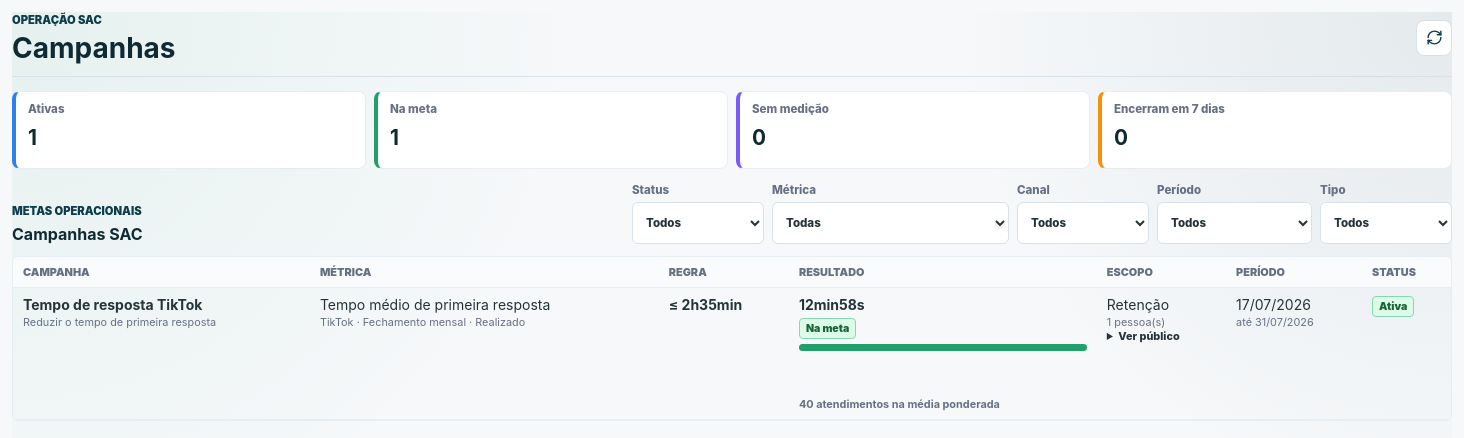
Test: SupportCampaignsView › filters campaigns without merging channel, granularity or observation type
Step 1. Select "TIKTOK" in the dropdown labelled "Canal" → (1083, 223), box [1017, 202, 1149, 244]
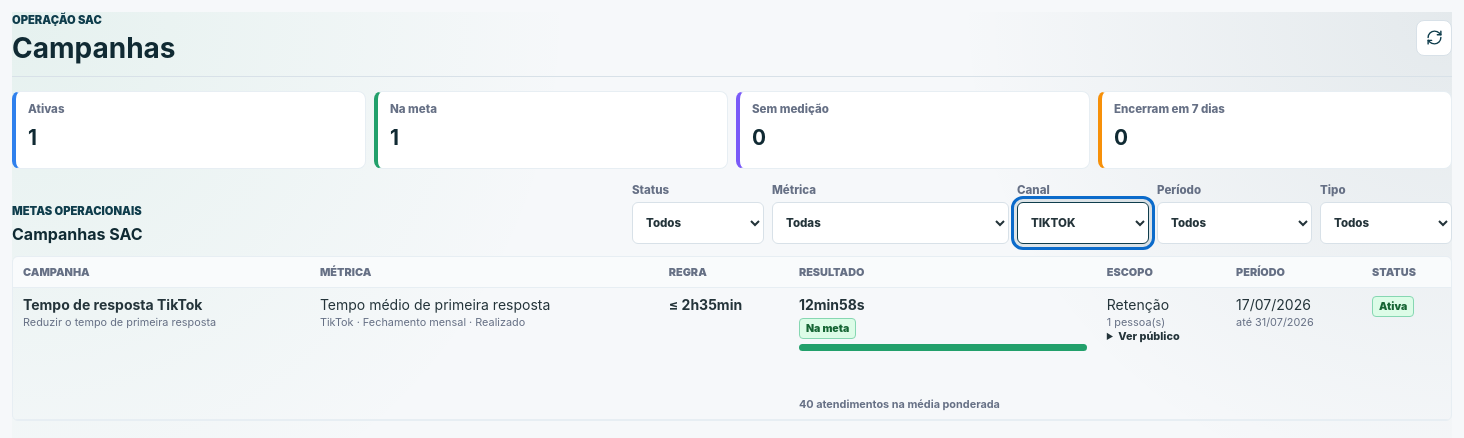
Step 2. Select "Fechamento mensal" in the dropdown labelled "Período" → (1234, 223), box [1157, 202, 1312, 244]
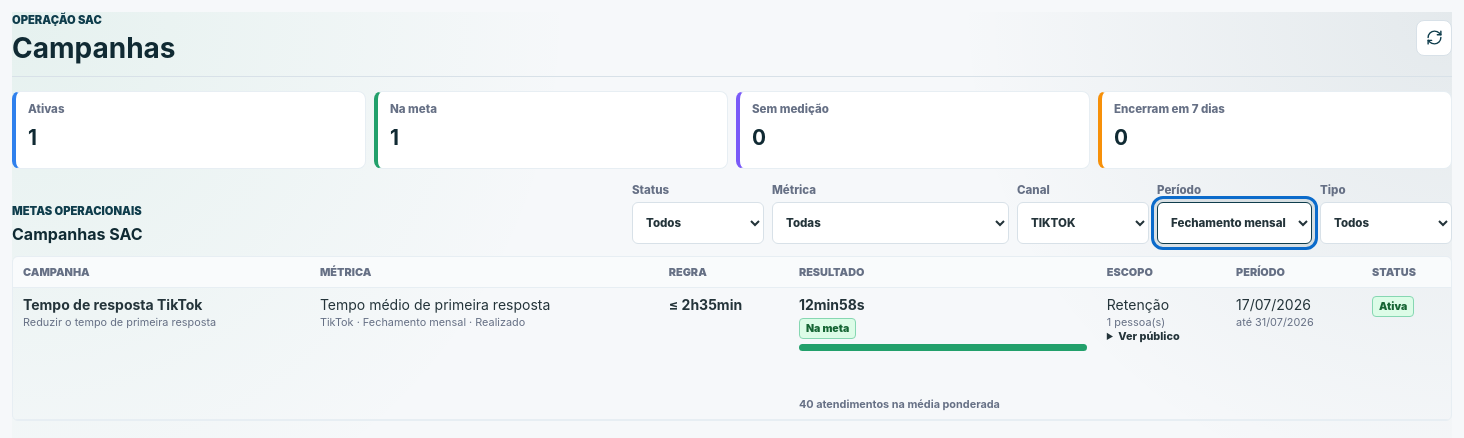
Step 3. Select "Realizado" in the dropdown labelled "Tipo" → (1386, 223), box [1320, 202, 1452, 244]
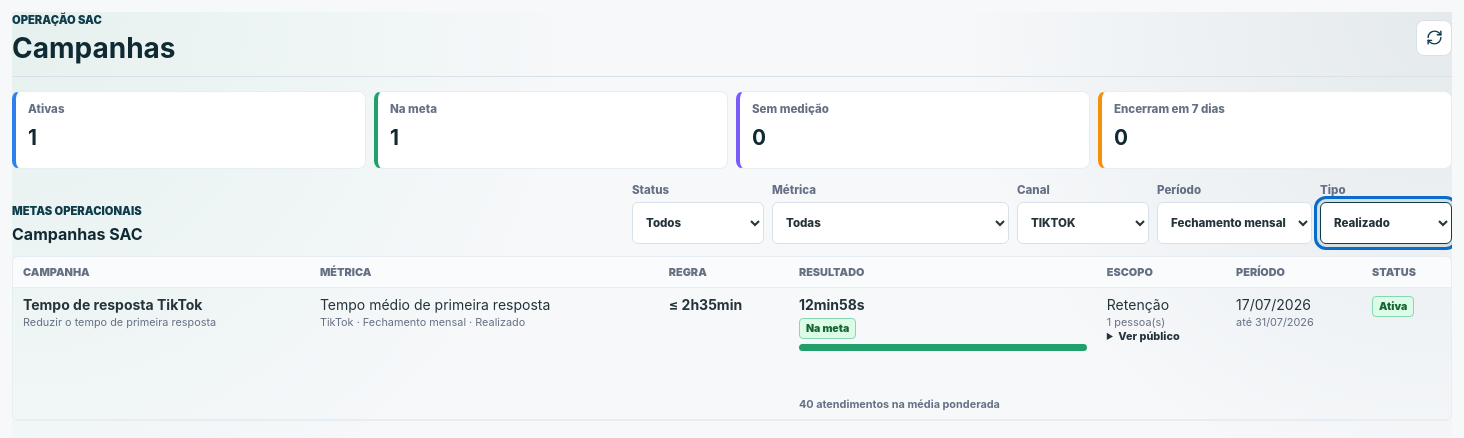
Expected: the text "Tempo de resposta TikTok" is shown, [23, 296, 202, 313]
Step 4. Select "Expectativa" in the dropdown labelled "Tipo" → (1386, 223), box [1320, 202, 1452, 244]
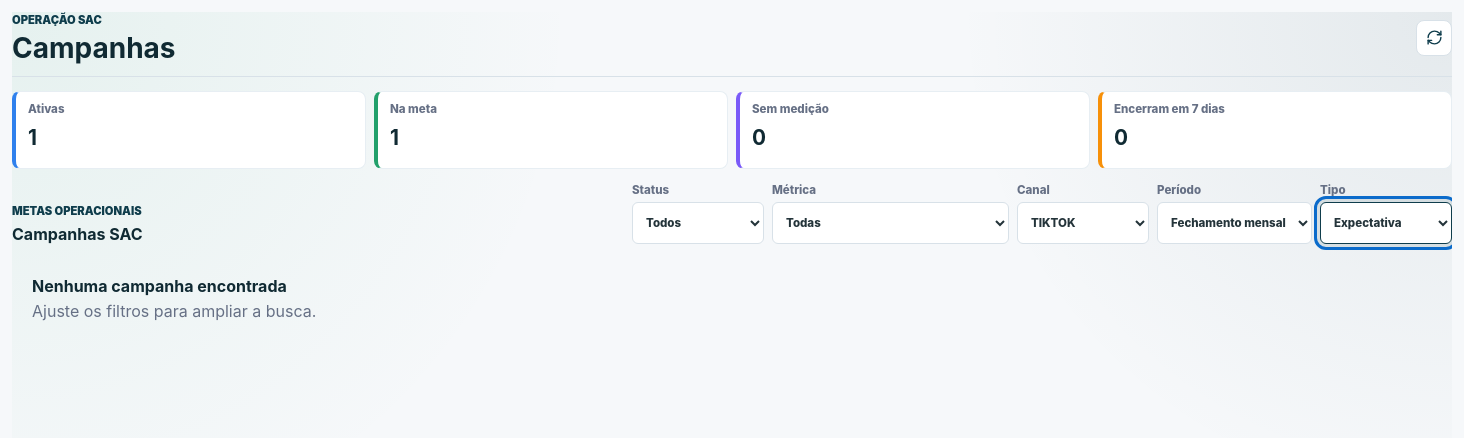
Result: the text "Tempo de resposta TikTok" is gone
